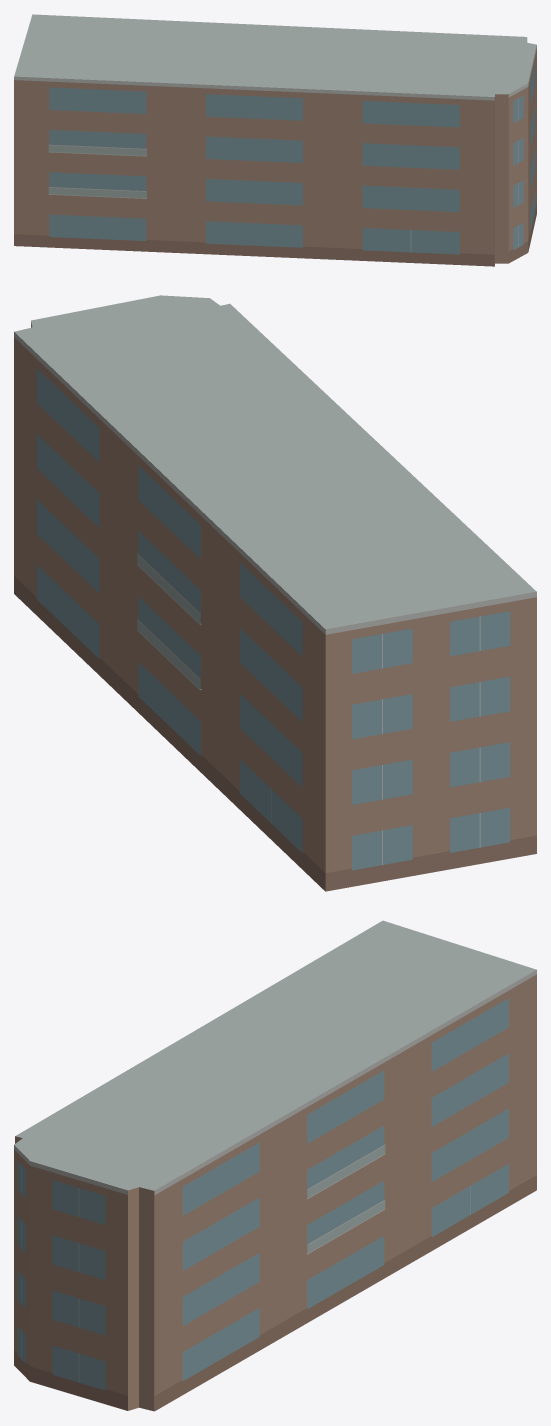
File: survey-upis-32656885.glb
3 renders of one model, top to bottom at view 1: azimuth 30°, elevation 25°; view 2: azimuth 150°, elevation 25°; view 3: azimuth 270°, elevation 25°, orthographic. The views are drawn at different scales.
Parts seen in each view (by area): view 1: survey-upis-32656885.tmp; view 2: survey-upis-32656885.tmp; view 3: survey-upis-32656885.tmp.
Part boxes in pixels (box(x1,y1,x2,y2)): survey-upis-32656885.tmp: box(14, 14, 536, 266); survey-upis-32656885.tmp: box(14, 295, 536, 891); survey-upis-32656885.tmp: box(14, 920, 536, 1411).
Size of the model in its own units: 31.03 by 11.8 by 25.36.
